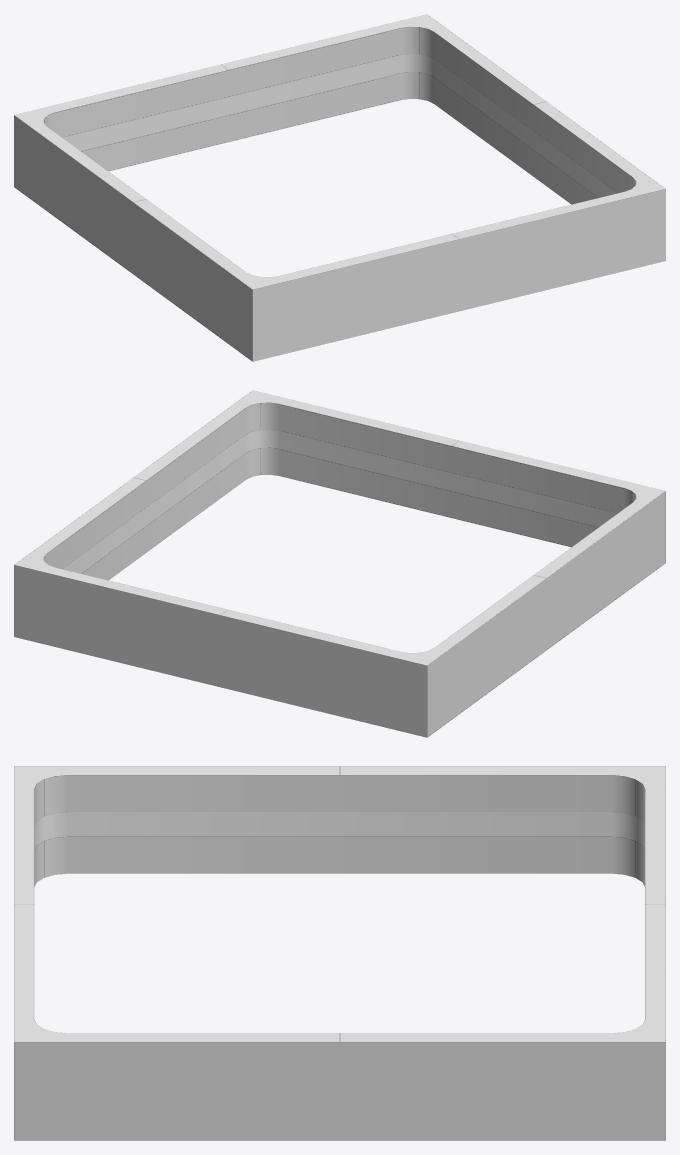
The model's file is Floor_Inter_Normal_02.FBX.
3 renders of one model, top to bottom at view 1: azimuth 30°, elevation 25°; view 2: azimuth 150°, elevation 25°; view 3: azimuth 270°, elevation 25°, orthographic. The views are drawn at different scales.
Visible parts, largest first — view 1: Floor_Inter_Normal_02; view 2: Floor_Inter_Normal_02; view 3: Floor_Inter_Normal_02.
Part boxes in pixels (x1,y1,x2,y2): Floor_Inter_Normal_02: (14, 14, 665, 361); Floor_Inter_Normal_02: (14, 390, 665, 737); Floor_Inter_Normal_02: (14, 766, 665, 1140).
Bounding box in the file's own units: 12 × 2 × 12.
